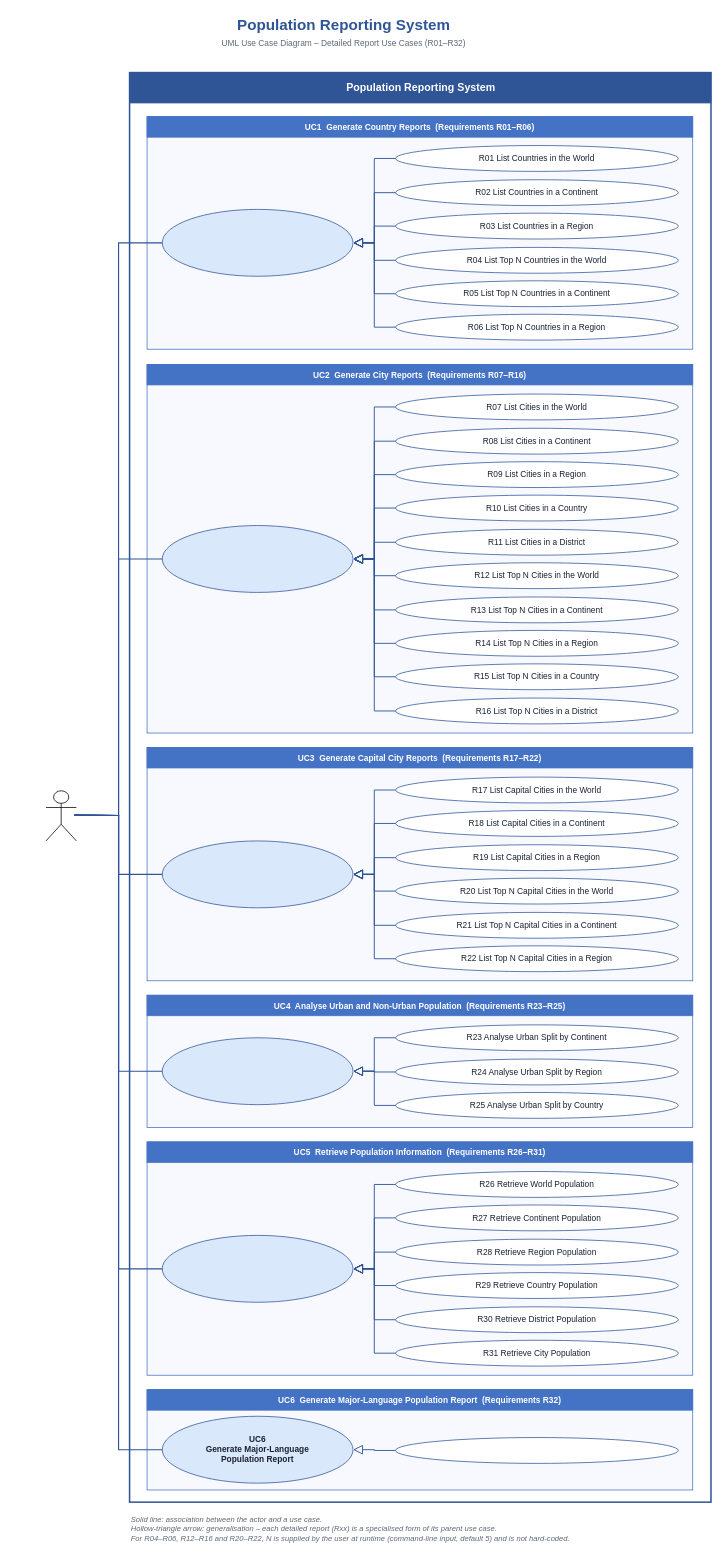
The diagram is 725 pixels wide and 1560 high, and some of its shapes have lost their labels. The shapes that lost their labels are listed below. From the top down, each one's centre as x and y in pixels, then its label:
At (x=257, y=242): "UC1 Generate Country Reports".
At (x=257, y=558): "UC2 Generate City Reports".
At (x=60, y=815): "Population Data Analyst".
At (x=257, y=874): "UC3 Generate Capital City Reports".
At (x=257, y=1071): "UC4 Analyse Urban and Non- Urban Population".
At (x=257, y=1268): "UC5 Retrieve Population Information".
At (x=536, y=1450): "R32 Report Major Language Speakers Chinese, English, Hindi, Spanish, Arabic".
